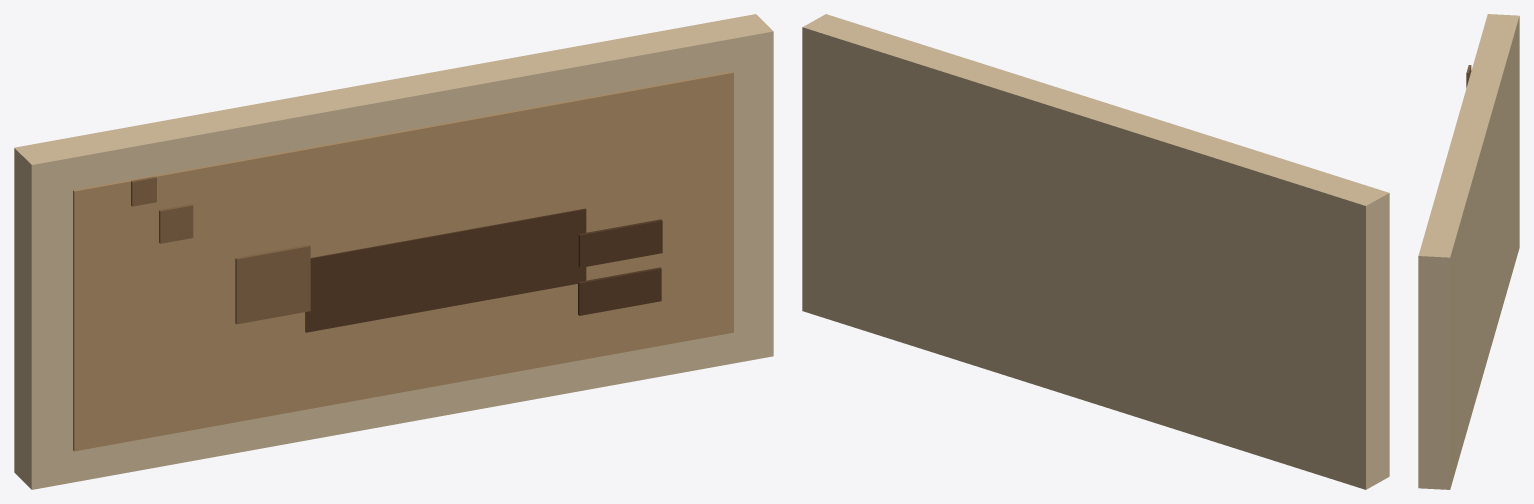
The model's file is sn_diver.glb.
3 renders of one model, left to right at view 1: azimuth 30°, elevation 25°; view 2: azimuth 150°, elevation 25°; view 3: azimuth 270°, elevation 25°, orthographic. The views are drawn at different scales.
Visible parts, largest first — view 1: sn_diver_lod0; view 2: sn_diver_lod0; view 3: sn_diver_lod0.
Part boxes in pixels (bbox=[...]): sn_diver_lod0: bbox=[14, 14, 773, 489]; sn_diver_lod0: bbox=[802, 14, 1389, 489]; sn_diver_lod0: bbox=[1418, 14, 1519, 489].
Size of what is drawn, in the model's own units: 8.99 by 4 by 1.58.
